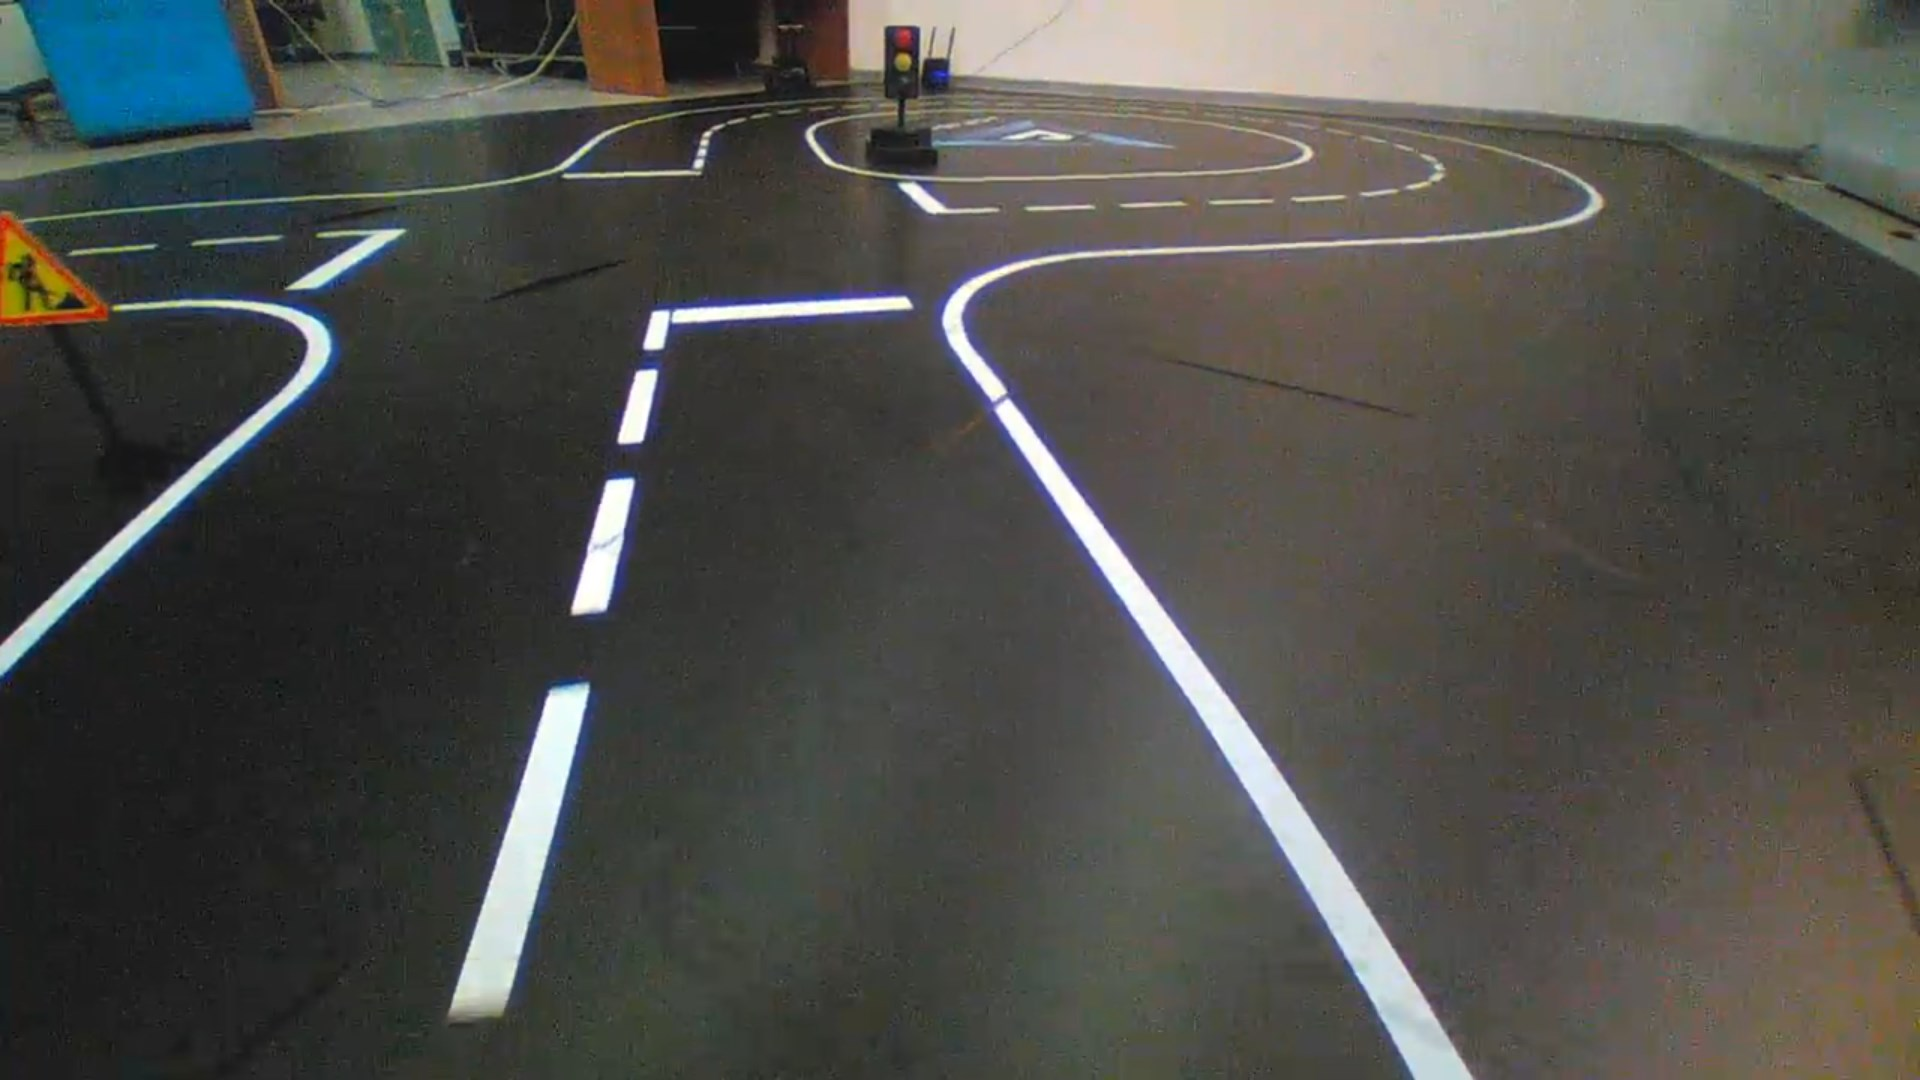trafficlight: (884, 24, 920, 100)
